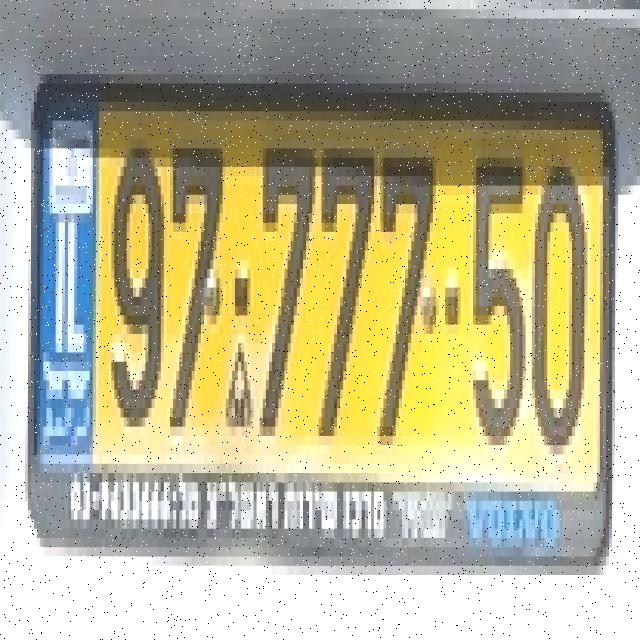licenseplate: (26, 46, 614, 582)
